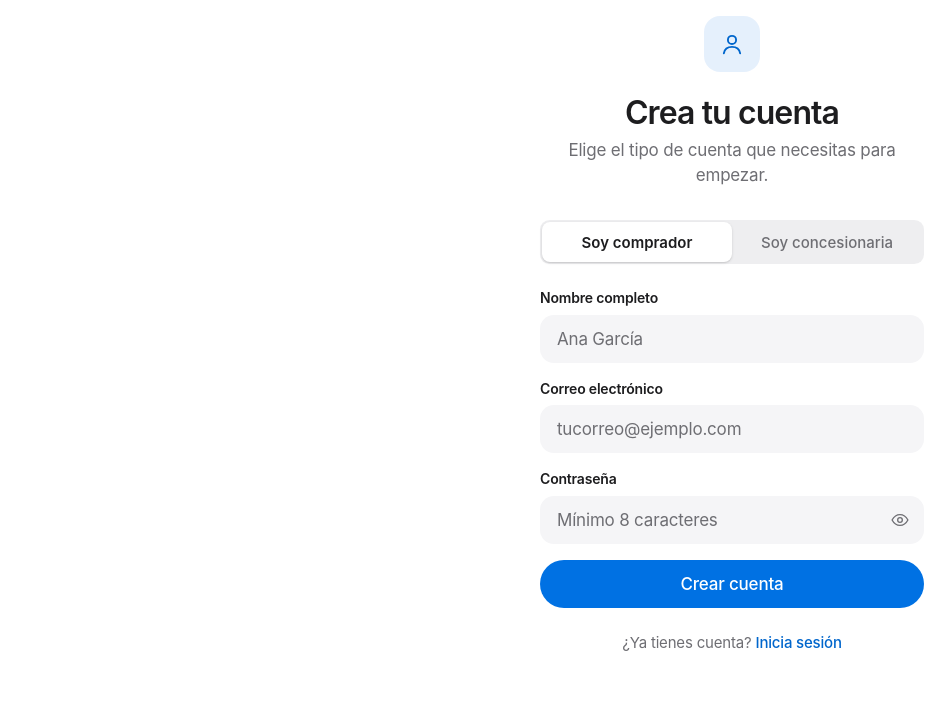
Test case: Register › cambia entre comprador y concesionaria con clic y con las flechas del teclado
Expected: the radio button labelled "Soy comprador" is checked, [542,222,732,262]
Click the radio button labelled "Soy concesionaria" at (827, 242), box [732,222,922,262]
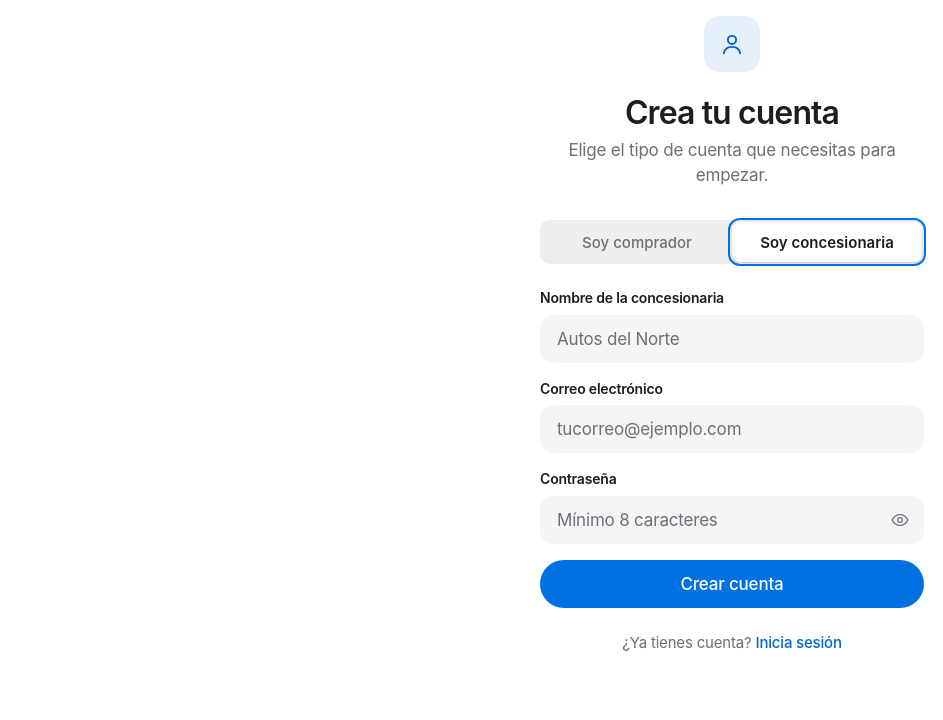
Expected: the field labelled "Nombre de la concesionaria" is shown, [540,315,924,363]
Expected: the radio button labelled "Soy concesionaria" is checked, [732,222,922,262]
Press Arrowleft
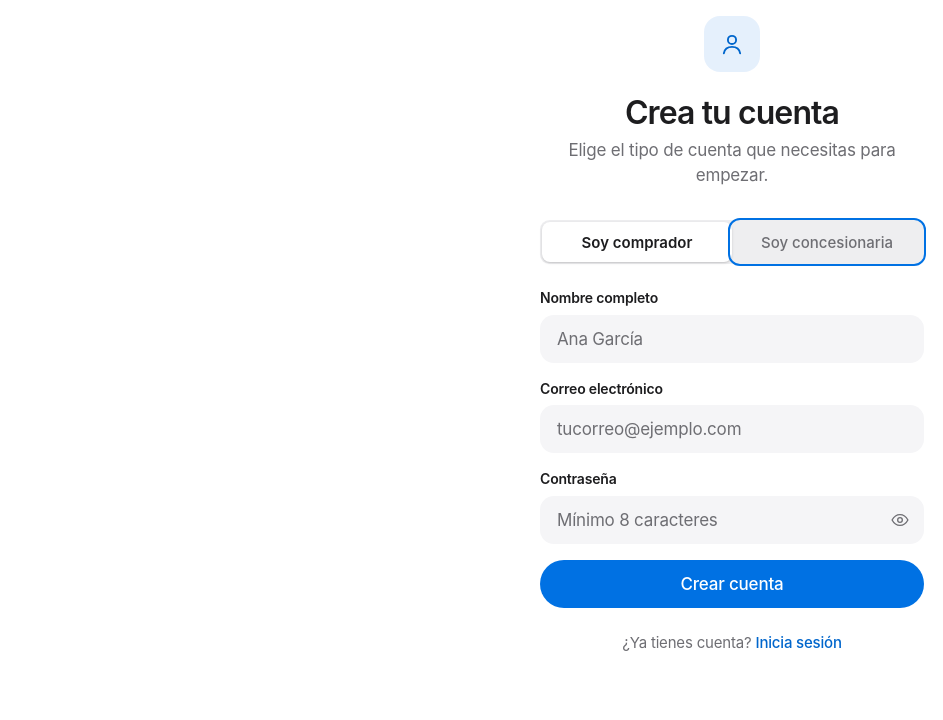
Expected: the radio button labelled "Soy comprador" is checked, [542,222,732,262]
